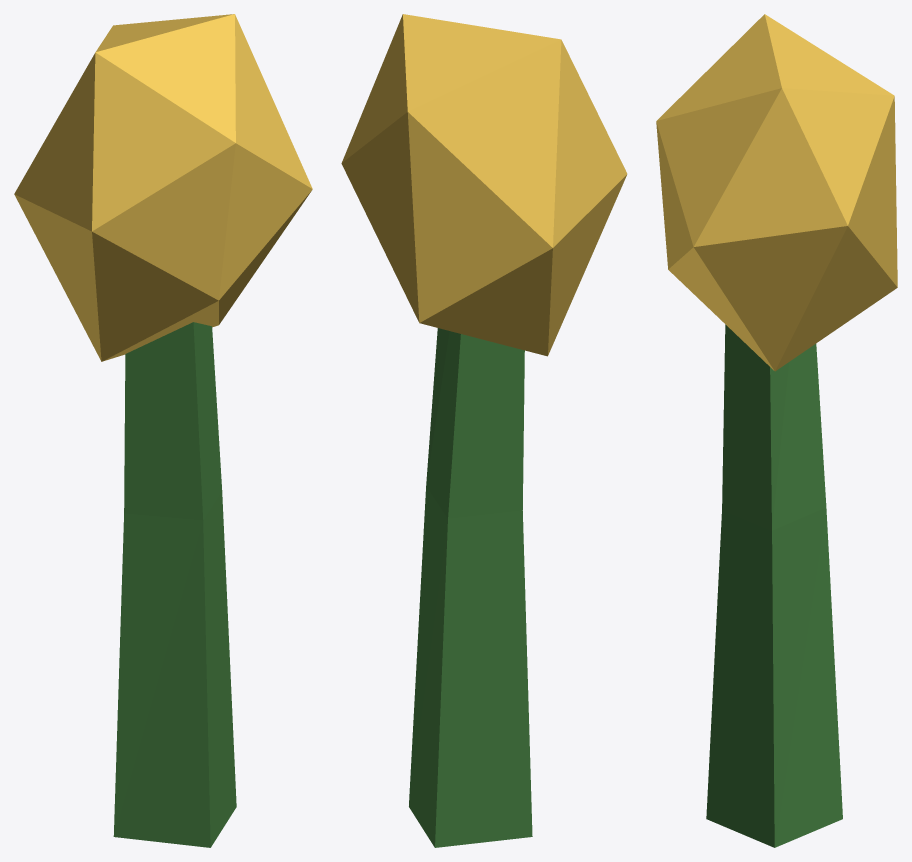
File: Flower1.fbx
3 renders of one model, left to right at view 1: azimuth 30°, elevation 25°; view 2: azimuth 150°, elevation 25°; view 3: azimuth 270°, elevation 25°, orthographic. The views are drawn at different scales.
Visible parts, largest first — view 1: Merged; view 2: Merged; view 3: Merged.
Part boxes in pixels (x1,y1,x2,y2): Merged: (14,14,312,847); Merged: (341,14,627,847); Merged: (656,14,897,847).
Size of the model in its own units: 35.31 by 124 by 35.34.
